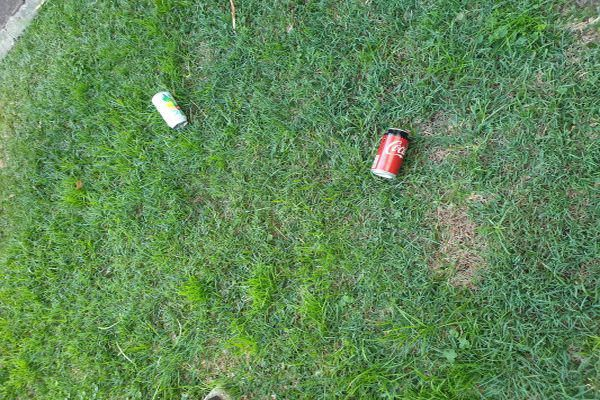Plastic Bottle: (371, 127, 410, 180), (152, 91, 188, 131)
